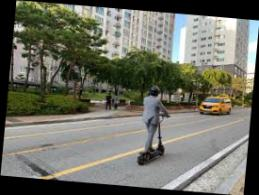helmet: (135, 83, 173, 169)
